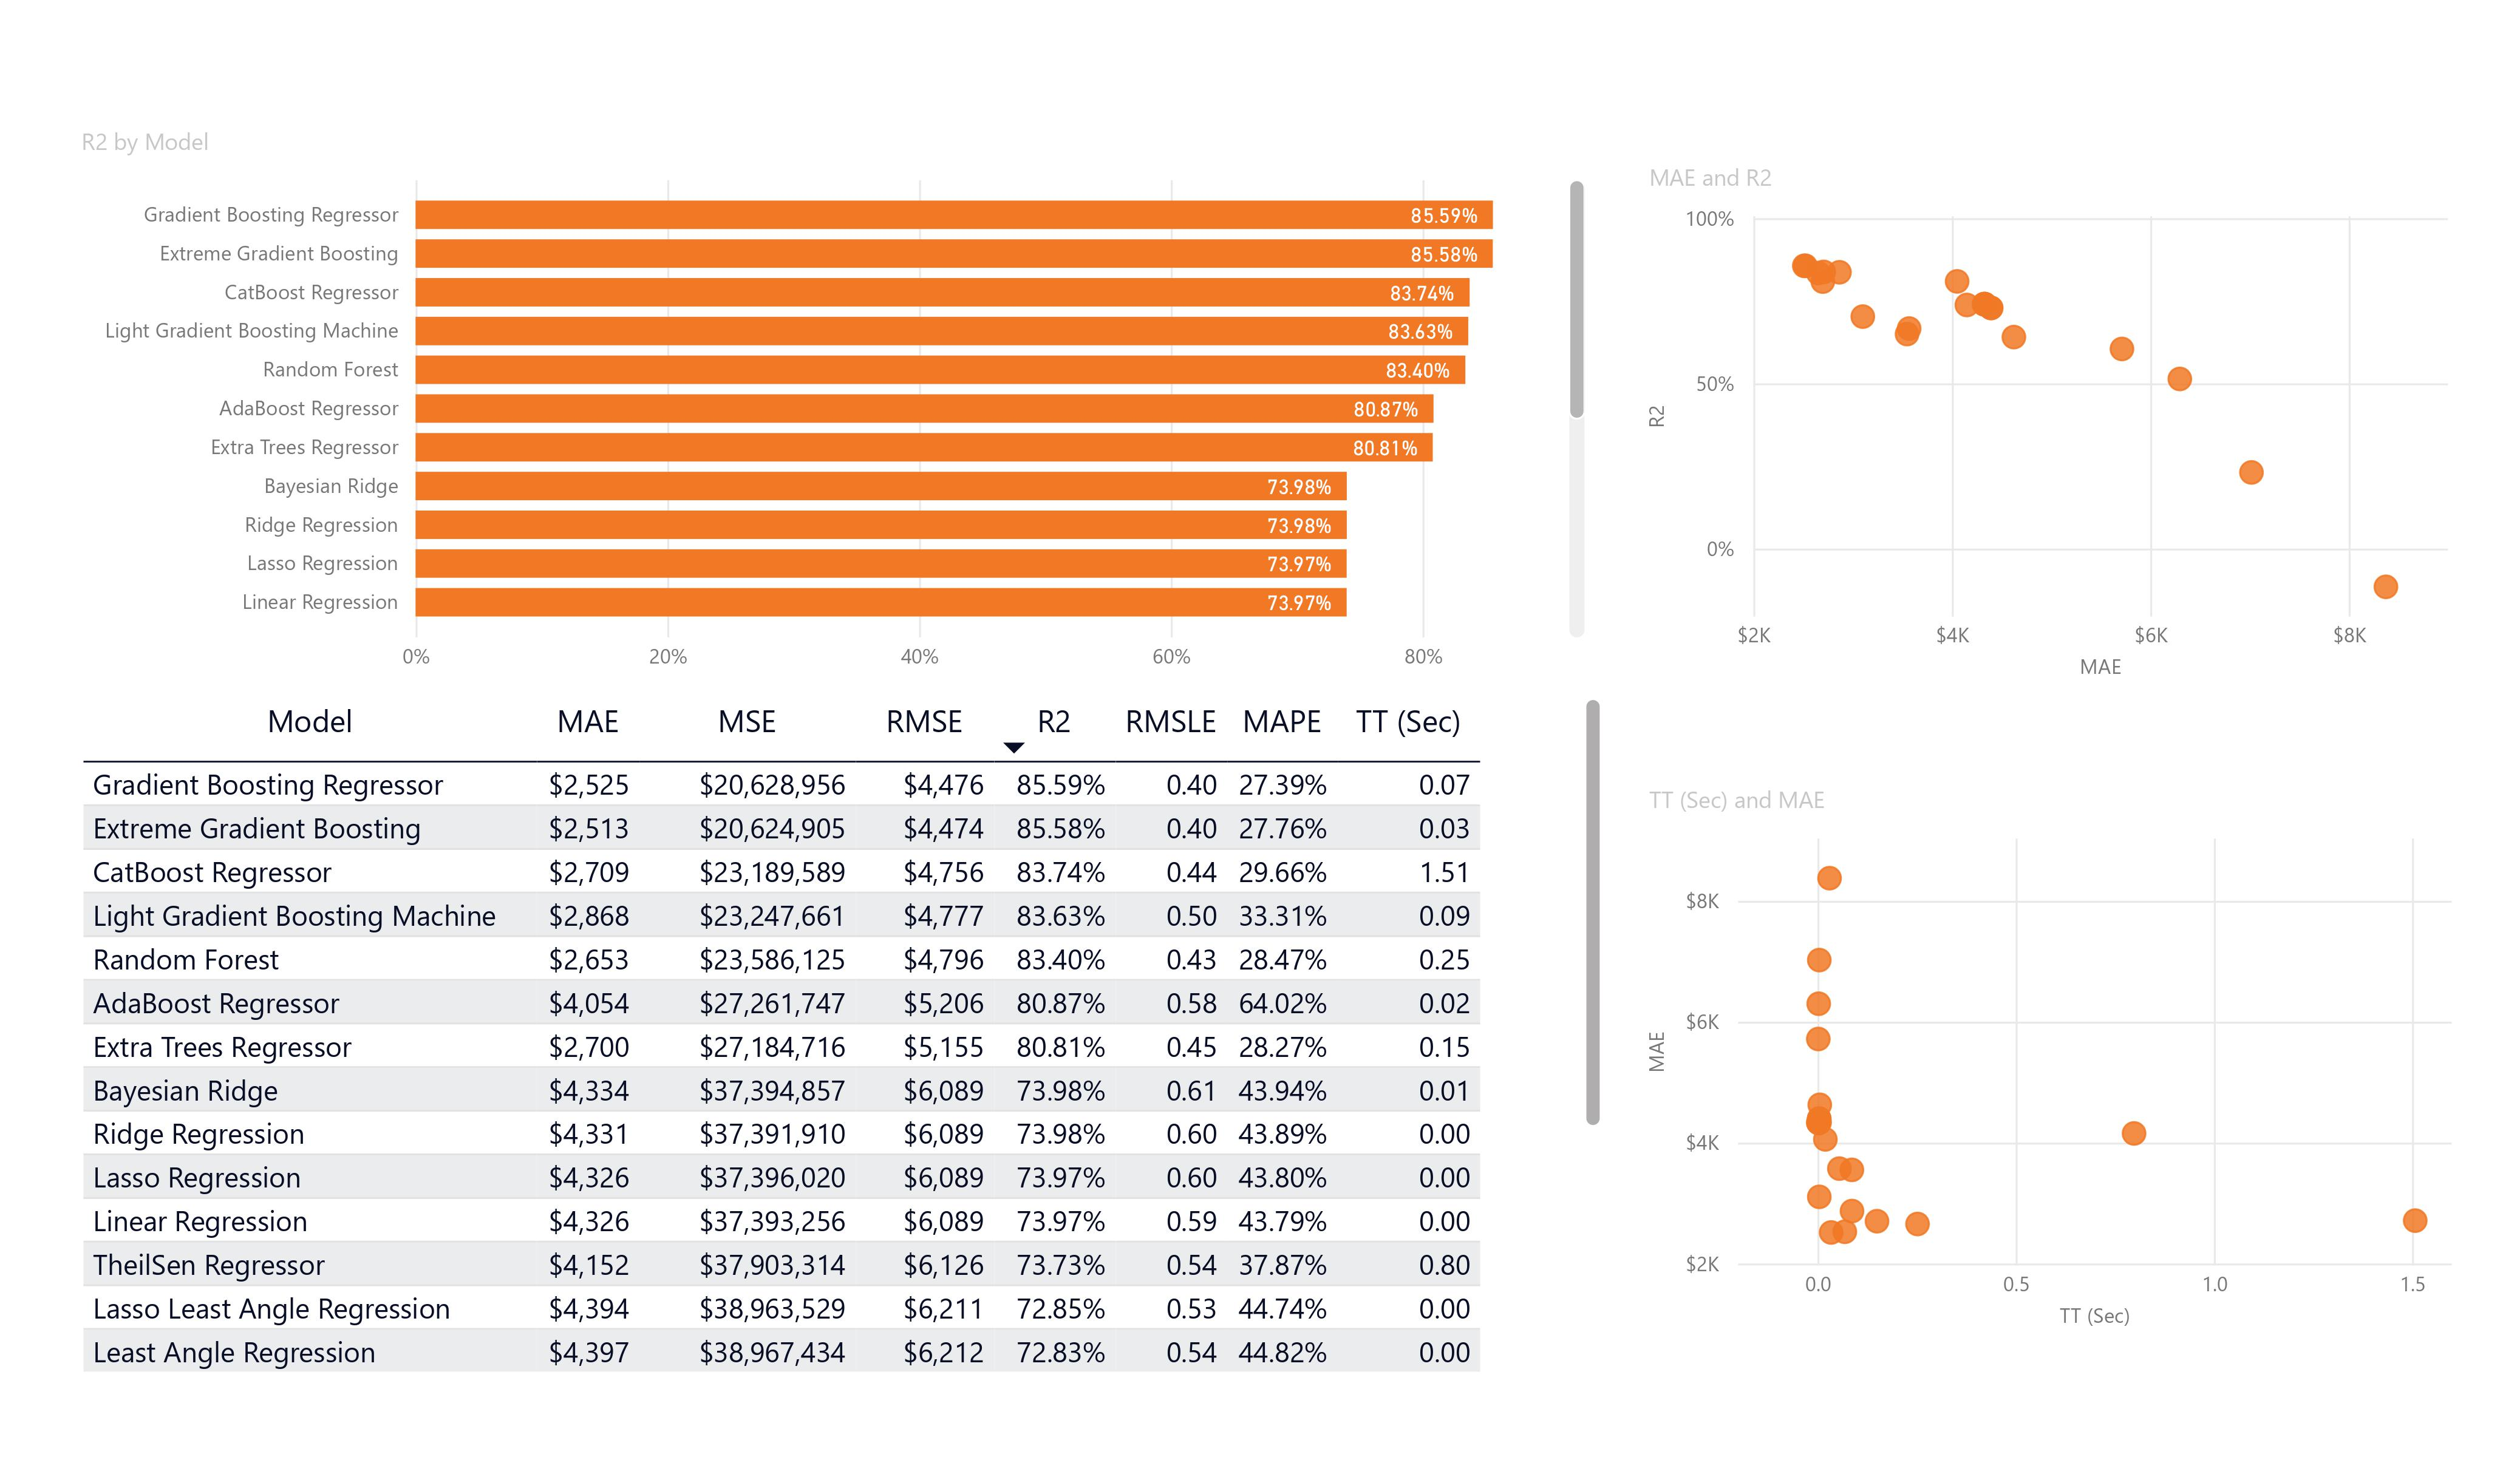

The page's visual inventory and layout, read from the dashboard file:
{"tool":"powerbi","page":{"name":"Dashboard","canvas":[1280,720],"ordinal":0},"visuals":[{"type":"tableEx","fields":{"Values":["insurance-automl.Model","Sum(insurance-automl.MAE)","Sum(insurance-automl.MSE)","Sum(insurance-automl.RMSE)","Sum(insurance-automl.R2)","Sum(insurance-automl.RMSLE)","Sum(insurance-automl.MAPE)","Sum(insurance-automl.TT (Sec))"]},"box":[4.1,406.5,811.7,313.1],"z":0},{"type":"barChart","fields":{"Category":["insurance-automl.Model"],"Y":["Sum(insurance-automl.R2)"]},"box":[13.7,81,802.1,298],"z":1000},{"type":"scatterChart","fields":{"X":["insurance-automl.MAE"],"Y":["insurance-automl.R2"]},"box":[840.5,92,439.5,278.8],"z":2000},{"type":"scatterChart","fields":{"X":["insurance-automl.TT (Sec)"],"Y":["insurance-automl.MAE"]},"box":[828.2,406.5,439.5,291.2],"z":3000},{"type":"image","box":[14.3,0,185.7,48.8],"z":4000}]}

Visuals, with their boxes in screenshot pixels (x1, y1, x2, y2):
tableEx - insurance-automl.Model x Sum(insurance-automl.MAE): {"left": 53, "top": 817, "right": 1593, "bottom": 1411}
barChart - insurance-automl.Model x Sum(insurance-automl.R2): {"left": 72, "top": 199, "right": 1593, "bottom": 764}
scatterChart - insurance-automl.MAE x insurance-automl.R2: {"left": 1641, "top": 220, "right": 2474, "bottom": 749}
scatterChart - insurance-automl.TT (Sec) x insurance-automl.MAE: {"left": 1617, "top": 817, "right": 2451, "bottom": 1369}
image: {"left": 73, "top": 46, "right": 425, "bottom": 138}
